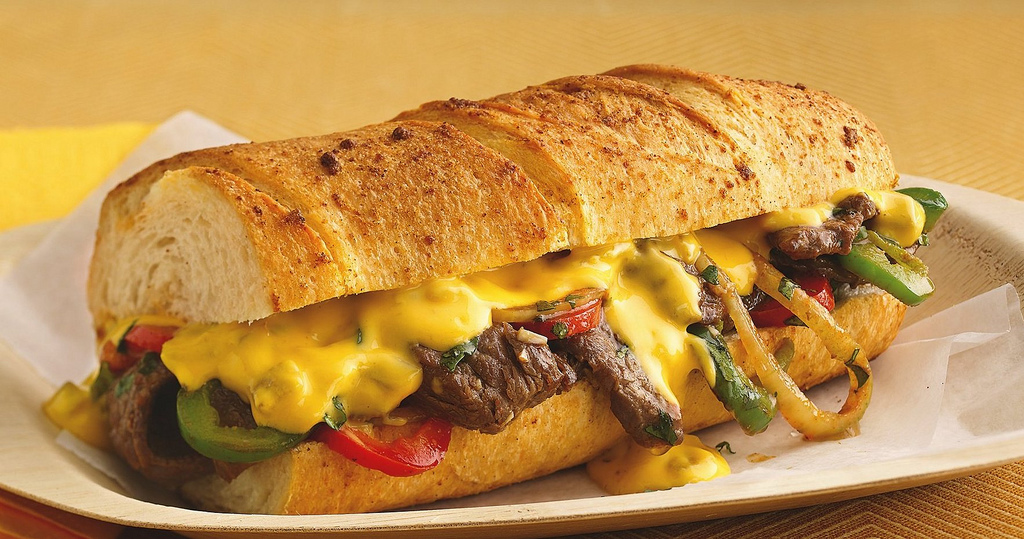slice of bread: (152, 289, 932, 389), (109, 161, 929, 243)
